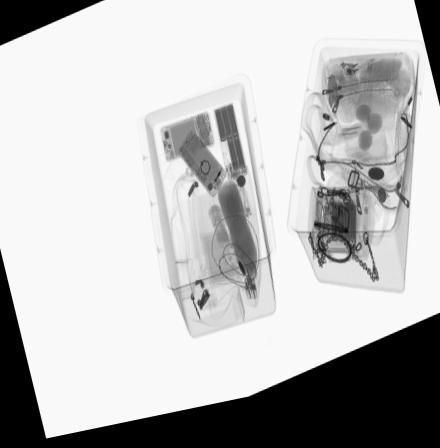Powerbank: (211, 110, 248, 192), (329, 211, 359, 259)
